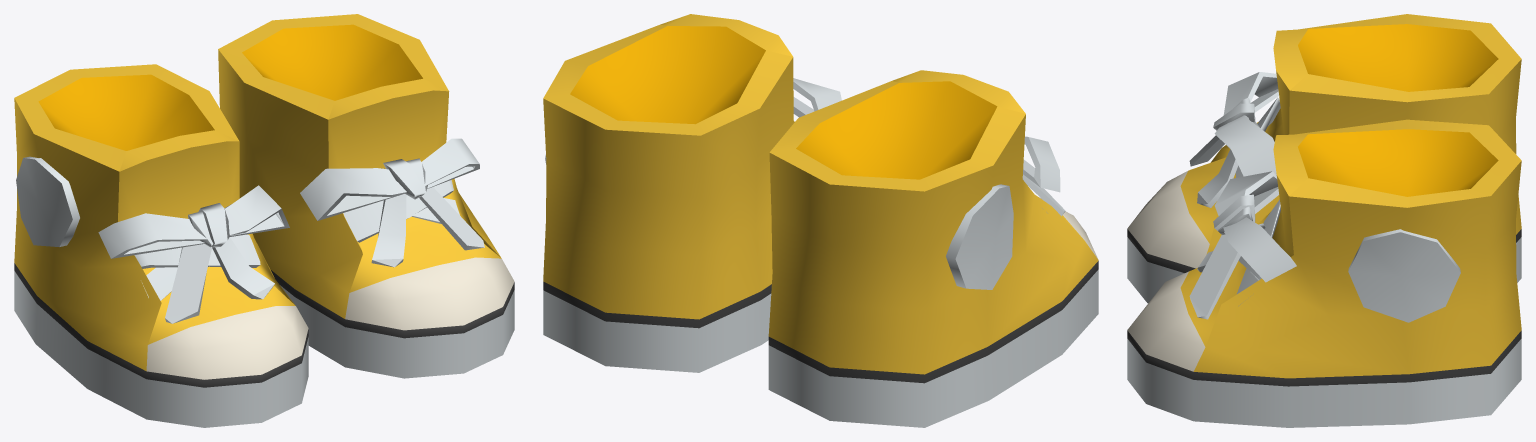
Rendered from Shoes_3.fbx.
3 renders of one model, left to right at view 1: azimuth 30°, elevation 25°; view 2: azimuth 150°, elevation 25°; view 3: azimuth 270°, elevation 25°, orthographic. The views are drawn at different scales.
Visible parts, largest first — view 1: Shoes_3; view 2: Shoes_3; view 3: Shoes_3.
Part boxes in pixels (x1,y1,x2,y2): Shoes_3: [14, 14, 514, 427]; Shoes_3: [543, 14, 1098, 427]; Shoes_3: [1127, 14, 1521, 427].
Size of the model in its own units: 39.4 by 21.6 by 33.17.
